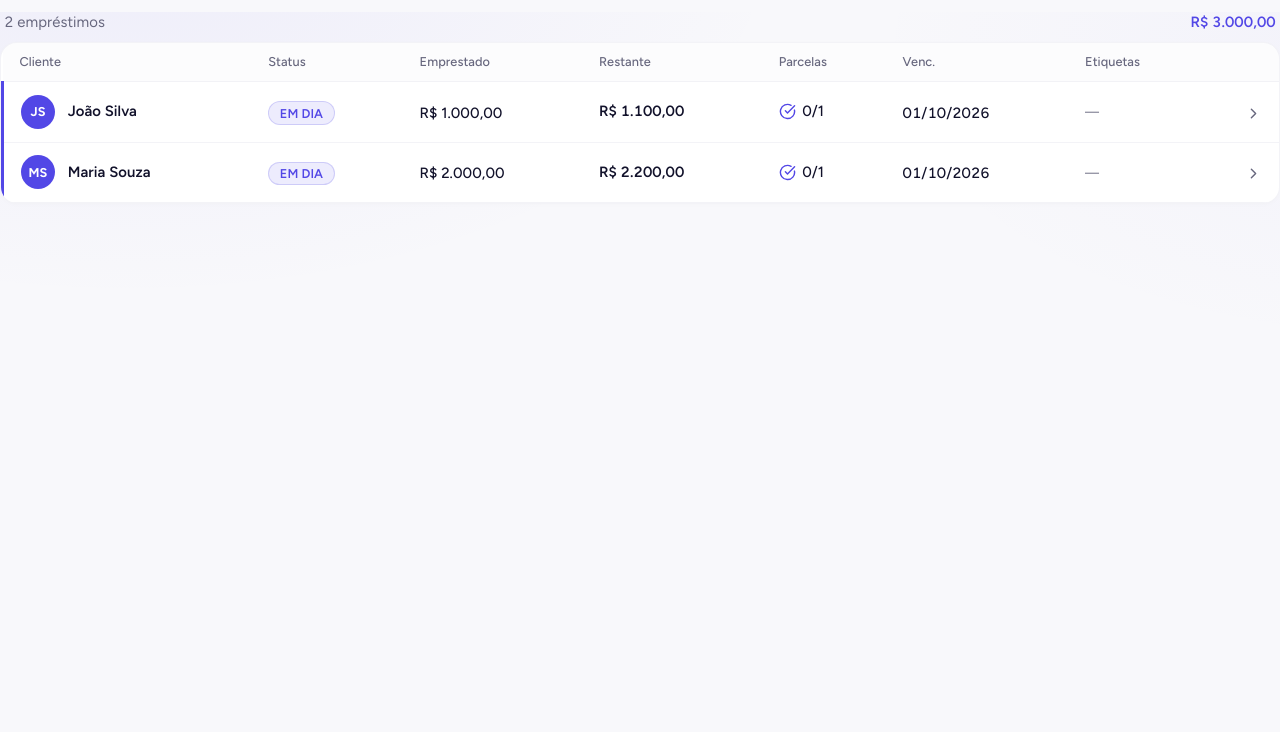
Test: Loan Accordion Behavior › na visualização em tabela (LoanListTable), expande apenas um empréstimo por vez e recolhe o anterior
This screenshot has width=1280, height=732.
Check: the text "Composição do Saldo" is not shown
Clica no primeiro empréstimo (João Silva)
Click the text "João Silva": (102, 112) [68,101,137,122]
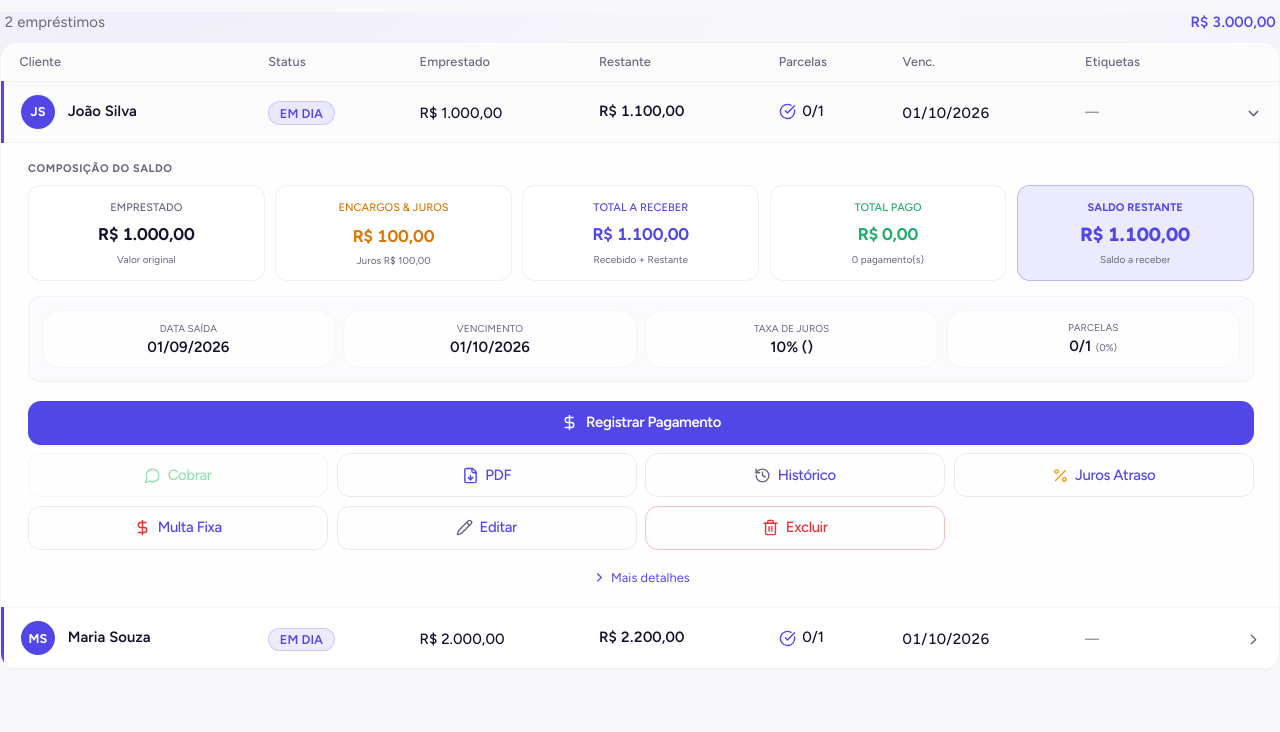
Check: the text "Composição do Saldo" is shown once, box [28,162,172,174]
Clica no segundo empréstimo (Maria Souza)
Click the text "Maria Souza": (109, 638) [68,628,151,649]
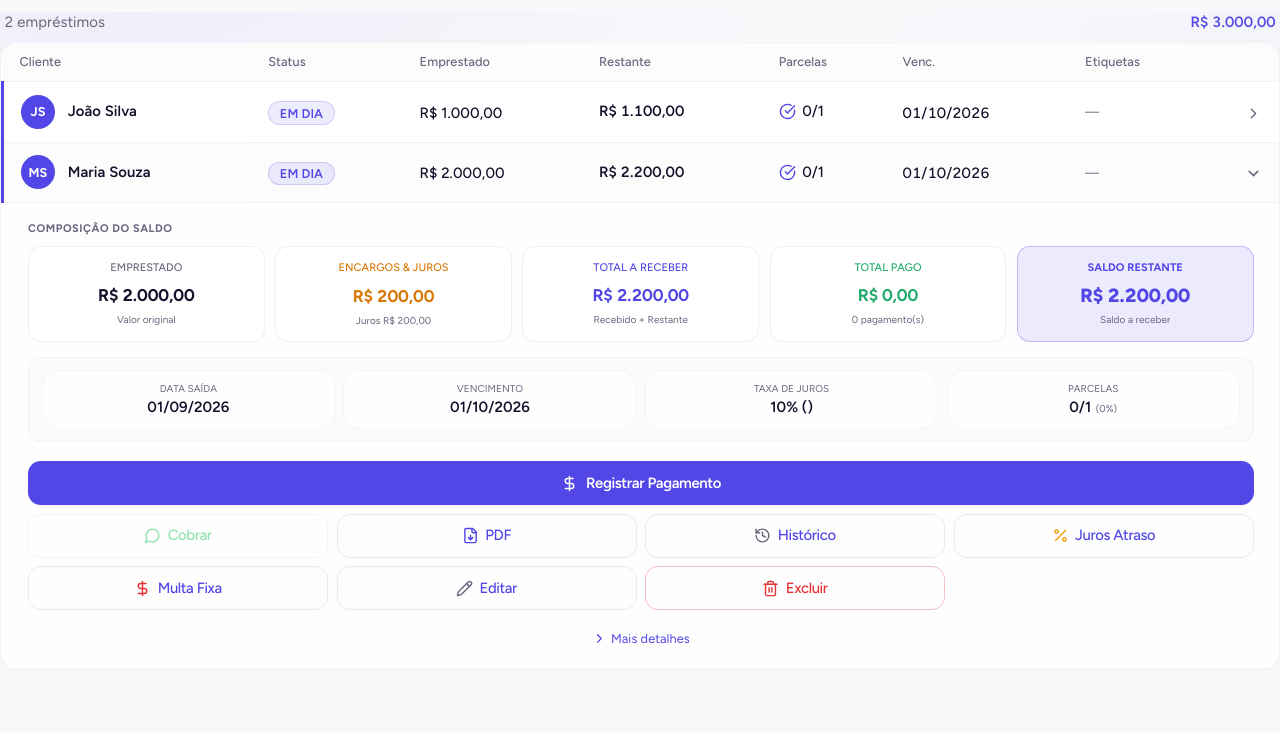
Check: the text "Composição do Saldo" is shown once, box [28,222,172,235]
Clica no segundo empréstimo de novo para recolher
Click the text "Maria Souza": (109, 172) [68,162,151,183]
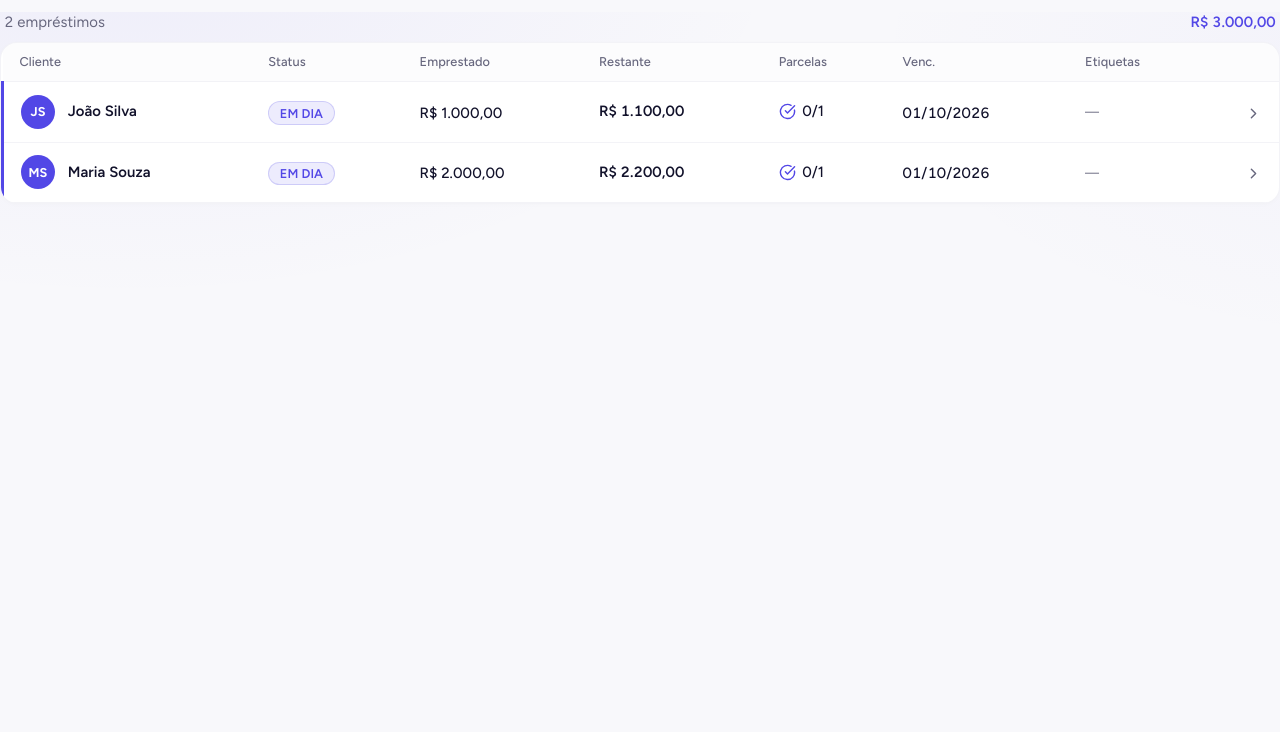
Check: the text "Composição do Saldo" is gone
